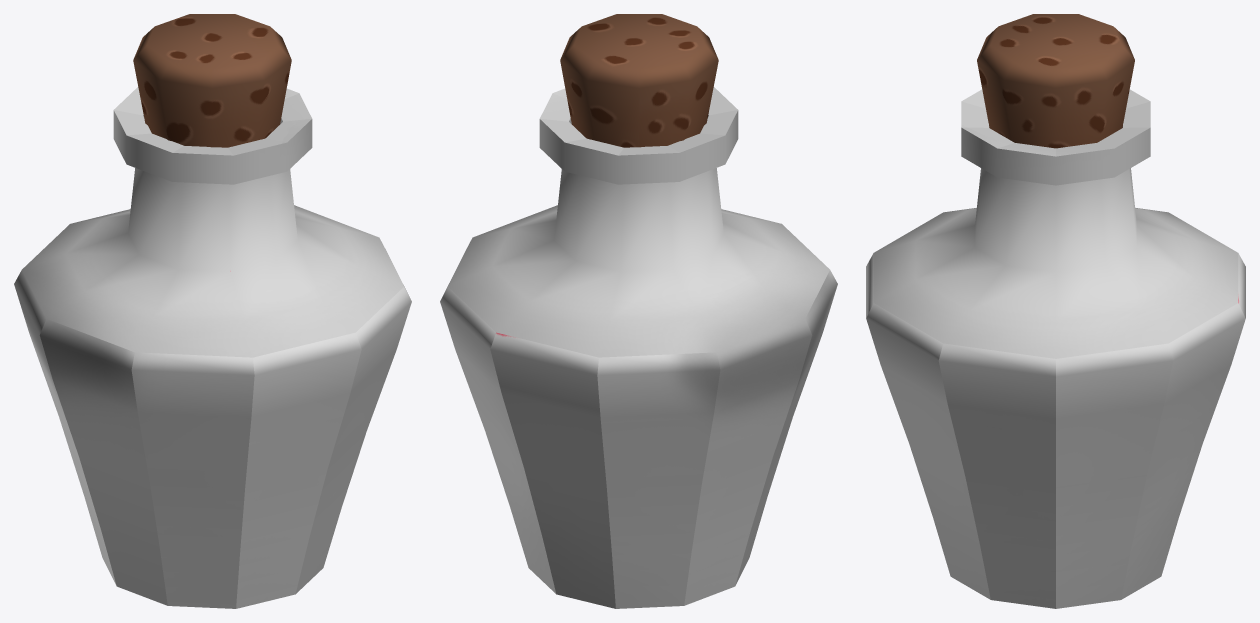
File: PVB export potion 03.fbx
3 renders of one model, left to right at view 1: azimuth 30°, elevation 25°; view 2: azimuth 150°, elevation 25°; view 3: azimuth 270°, elevation 25°, orthographic.
Visible parts, largest first — view 1: glass, kurk; view 2: glass, kurk; view 3: glass, kurk.
Part boxes in pixels (bbox=[...]): glass: bbox=[14, 87, 411, 608]; kurk: bbox=[133, 14, 291, 147]; glass: bbox=[440, 87, 837, 608]; kurk: bbox=[560, 14, 718, 147]; glass: bbox=[866, 89, 1245, 608]; kurk: bbox=[977, 14, 1134, 148].
Size of the model in its own units: 9.39 by 13.53 by 8.93.
2 materials, 2 textured.
